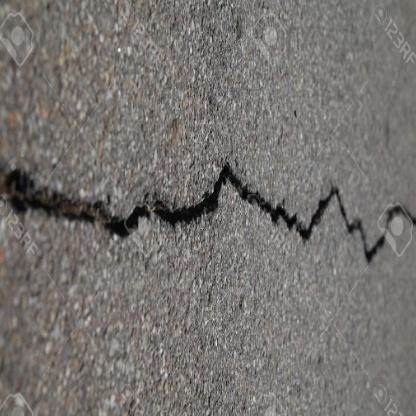Cracks: (1, 160, 416, 268)
